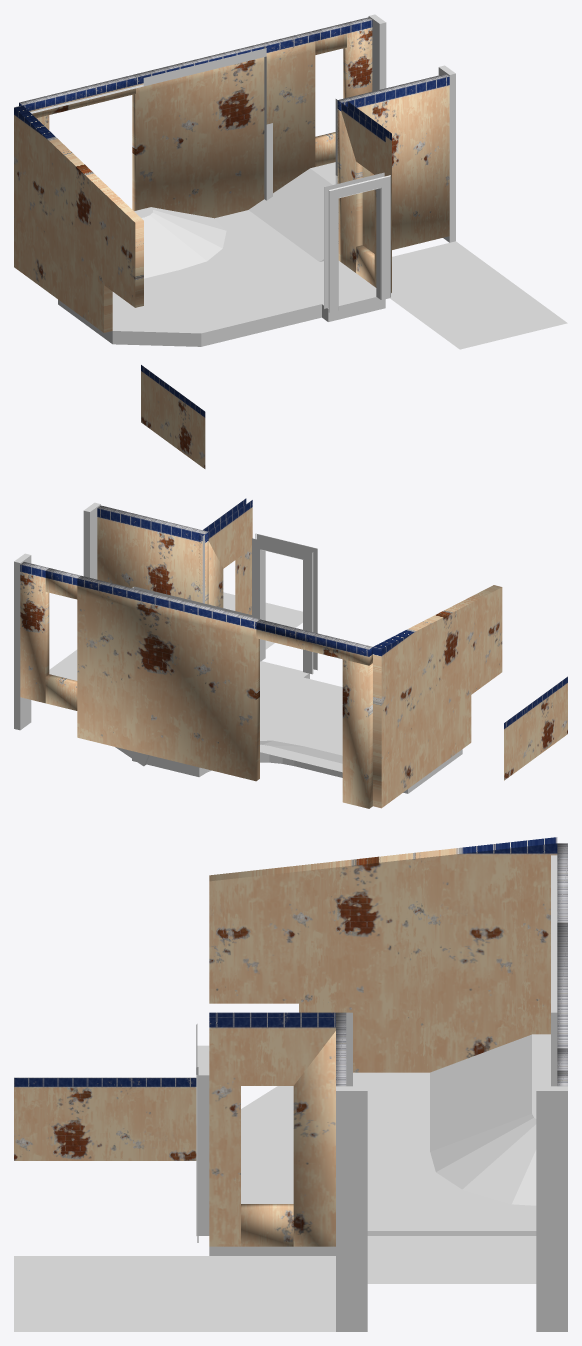
Rendered from kitchenCollisionSetup.fbx.
3 renders of one model, top to bottom at view 1: azimuth 30°, elevation 25°; view 2: azimuth 150°, elevation 25°; view 3: azimuth 270°, elevation 25°, orthographic. The views are drawn at different scales.
Visible parts, largest first — view 1: collisionCube.152, collisionCube.132, collisionCube.147, collisionCube.236, collisionCube.139, collisionConvex.007, collisionRotatedCube, collisionCube.149, collisionCube.141, collisionCube.155, collisionCube.151, collisionCube.140 (+9 smaller); view 2: collisionCube.152, collisionCube.147, collisionCube.139, collisionCube.132, collisionCube.236, collisionCube.150, collisionCube.155, collisionCube.149, collisionCube.151, collisionCube.140, collisionCube.145, collisionCube.142 (+8 smaller); view 3: collisionCube.147, collisionCube.236, collisionCube.132, collisionCube.149, collisionConvex.007, collisionCube.136, collisionCube.141, collisionCube.140, collisionCube.142, collisionCube.143, collisionCube.146, collisionCube.152 (+5 smaller).
Part boxes in pixels (left/top/right/bottom): collisionCube.152: left=132, top=31, right=315, bottom=218; collisionCube.132: left=58, top=210, right=385, bottom=346; collisionCube.147: left=14, top=105, right=143, bottom=332; collisionCube.236: left=141, top=241, right=567, bottom=468; collisionCube.139: left=337, top=73, right=449, bottom=261; collisionConvex.007: left=141, top=207, right=226, bottom=278; collisionRotatedCube: left=249, top=168, right=332, bottom=261; collisionCube.149: left=368, top=14, right=455, bottom=242; collisionCube.141: left=337, top=100, right=362, bottom=272; collisionCube.155: left=343, top=17, right=372, bottom=98; collisionCube.151: left=19, top=75, right=135, bottom=118; collisionCube.140: left=341, top=101, right=391, bottom=174; collisionCube.152: left=77, top=575, right=259, bottom=781; collisionCube.147: left=373, top=585, right=502, bottom=808; collisionCube.139: left=97, top=505, right=208, bottom=604; collisionCube.132: left=132, top=661, right=462, bottom=793; collisionCube.236: left=223, top=592, right=567, bottom=780; collisionCube.150: left=342, top=659, right=372, bottom=808; collisionCube.155: left=20, top=562, right=49, bottom=703; collisionCube.149: left=14, top=502, right=100, bottom=730; collisionCube.151: left=256, top=619, right=372, bottom=665; collisionCube.140: left=203, top=498, right=252, bottom=568; collisionCube.145: left=303, top=549, right=317, bottom=674; collisionCube.142: left=235, top=499, right=252, bottom=614; collisionCube.147: left=209, top=837, right=557, bottom=1072; collisionCube.236: left=14, top=1077, right=335, bottom=1331; collisionCube.132: left=209, top=1072, right=536, bottom=1255; collisionCube.149: left=336, top=1086, right=567, bottom=1331; collisionConvex.007: left=430, top=1034, right=536, bottom=1205; collisionCube.136: left=367, top=1236, right=536, bottom=1283; collisionCube.141: left=293, top=1031, right=335, bottom=1246; collisionCube.140: left=209, top=1012, right=335, bottom=1085; collisionCube.142: left=209, top=1013, right=240, bottom=1246; collisionCube.143: left=196, top=1067, right=209, bottom=1242; collisionCube.146: left=241, top=1204, right=293, bottom=1246; collisionCube.152: left=557, top=922, right=567, bottom=1048.
Bounding box in the file's own units: 717 × 424 × 656.
